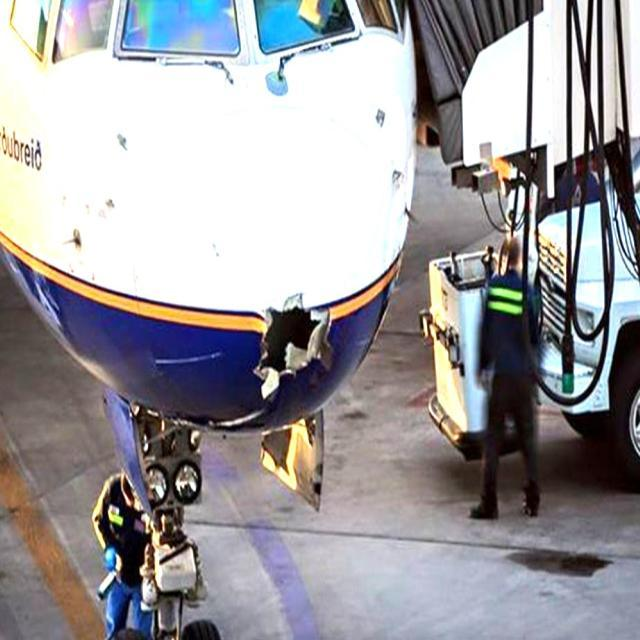crack: (252, 292, 344, 406)
